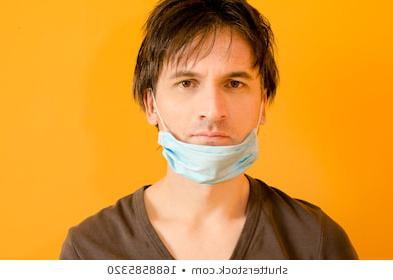mask_weared_incorrect: (154, 67, 261, 178)
